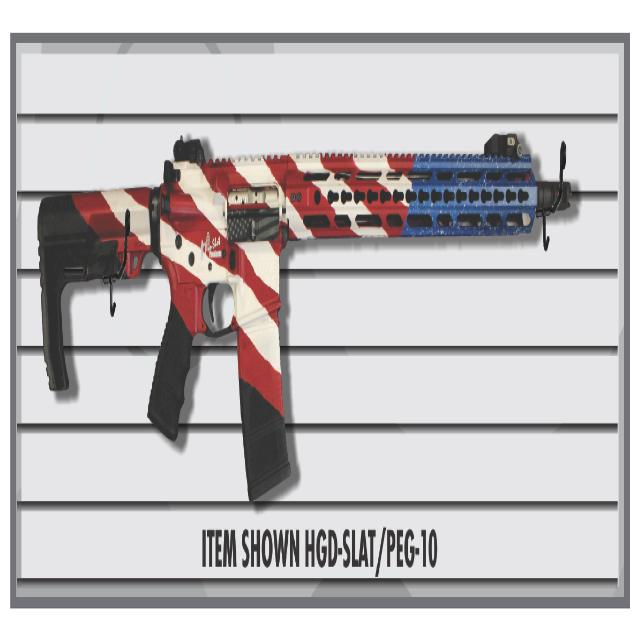Rifle: (36, 134, 580, 502)
